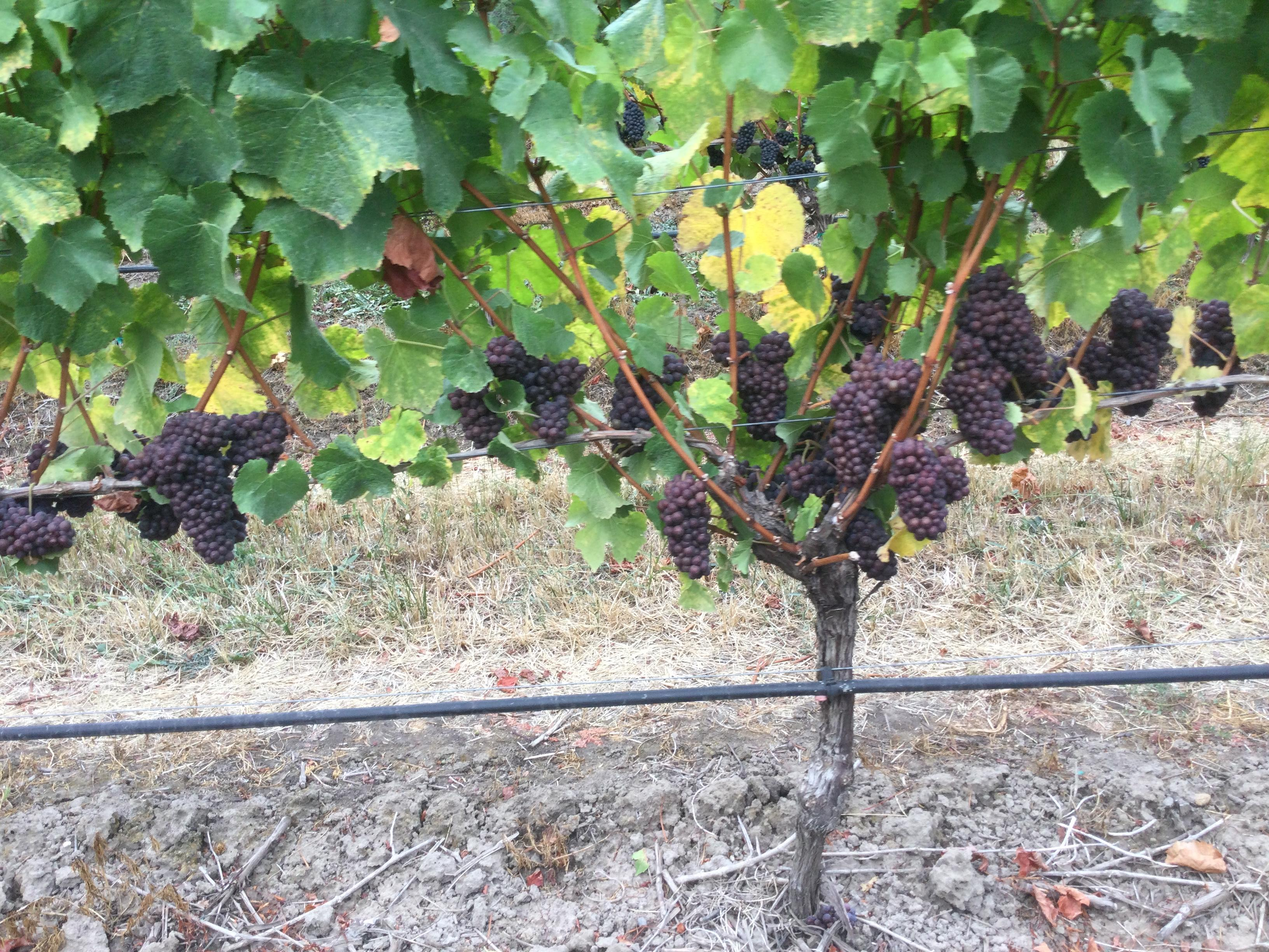leaf: (230, 40, 417, 226), (71, 0, 217, 113), (522, 82, 642, 208), (255, 183, 396, 284), (143, 182, 251, 309), (111, 86, 241, 185), (1075, 89, 1181, 202), (0, 114, 79, 240), (411, 92, 490, 217), (21, 216, 117, 312), (376, 0, 472, 94), (364, 307, 447, 412), (101, 154, 182, 252), (1125, 34, 1192, 152), (716, 0, 797, 92), (1031, 153, 1115, 234), (806, 78, 878, 172), (21, 69, 100, 153), (290, 284, 350, 389), (311, 434, 394, 502), (66, 275, 134, 355), (570, 500, 647, 570), (967, 47, 1024, 135), (792, 0, 900, 46), (916, 29, 975, 112), (233, 459, 309, 523), (191, 0, 275, 51), (604, 0, 666, 69), (356, 407, 426, 466), (903, 137, 966, 202), (1153, 0, 1251, 40), (278, 0, 373, 40), (819, 163, 889, 216), (566, 454, 623, 519), (13, 284, 73, 345), (489, 58, 547, 120), (205, 358, 266, 415), (513, 304, 575, 357), (634, 296, 696, 348), (38, 444, 114, 485), (532, 0, 600, 45), (442, 335, 493, 392), (780, 252, 827, 312), (1230, 284, 1268, 356), (487, 431, 540, 482), (687, 375, 737, 427), (647, 251, 698, 299), (407, 441, 461, 486), (820, 219, 857, 275), (677, 573, 716, 611), (792, 495, 822, 541), (886, 257, 920, 296), (185, 356, 213, 397), (515, 128, 523, 161), (524, 91, 531, 107), (516, 108, 523, 117), (0, 68, 2, 75), (1186, 249, 1188, 256), (305, 51, 307, 57), (543, 72, 544, 81), (659, 298, 667, 299), (463, 387, 470, 388), (537, 66, 540, 68), (759, 288, 764, 289), (0, 79, 2, 81), (217, 360, 218, 362), (476, 387, 478, 388), (768, 285, 770, 286), (538, 0, 540, 1), (481, 384, 482, 385), (420, 4, 421, 5), (772, 282, 773, 283), (482, 357, 482, 360), (500, 79, 500, 81), (570, 335, 570, 336), (927, 200, 928, 200), (575, 523, 575, 524)
